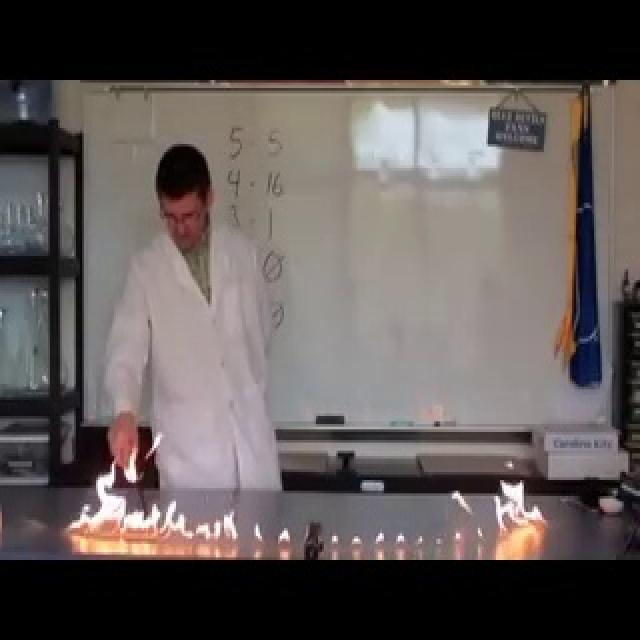fire: (62, 452, 230, 542), (489, 473, 549, 536)
